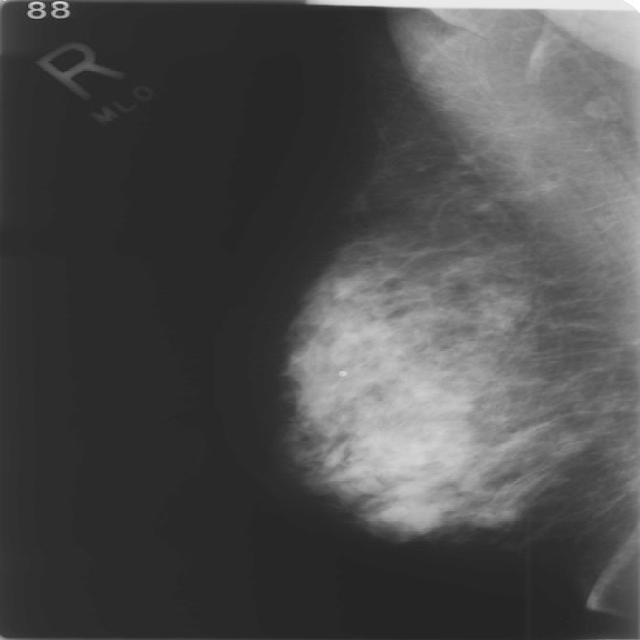tumour: (374, 493, 442, 532)
